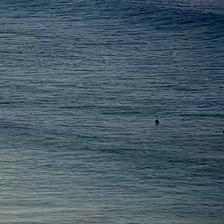surfer: (154, 117, 160, 124), (220, 128, 224, 134)
